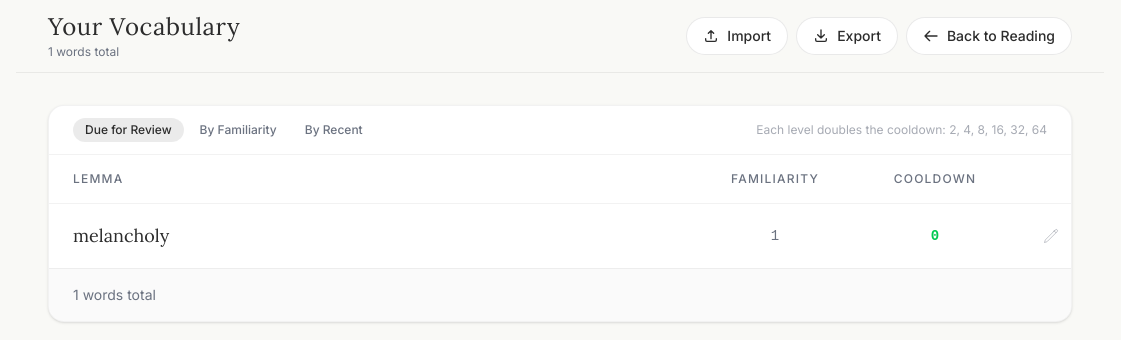
Scenario: StatsView.vue › uses centered text inputs for numeric editing
Step 1. Click the button named "Edit Row" → {"x": 1051, "y": 236}, box [1039,224,1063,248]
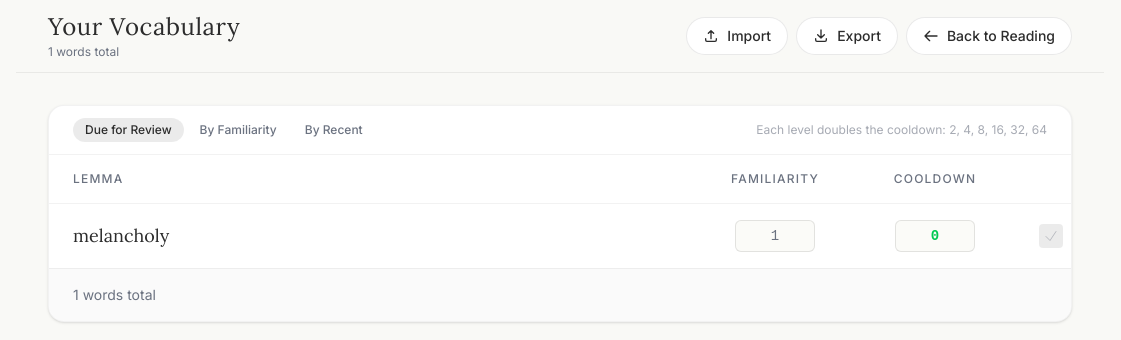
Now the number of fields is 2, box [735,220,815,252]; [895,220,975,252]
